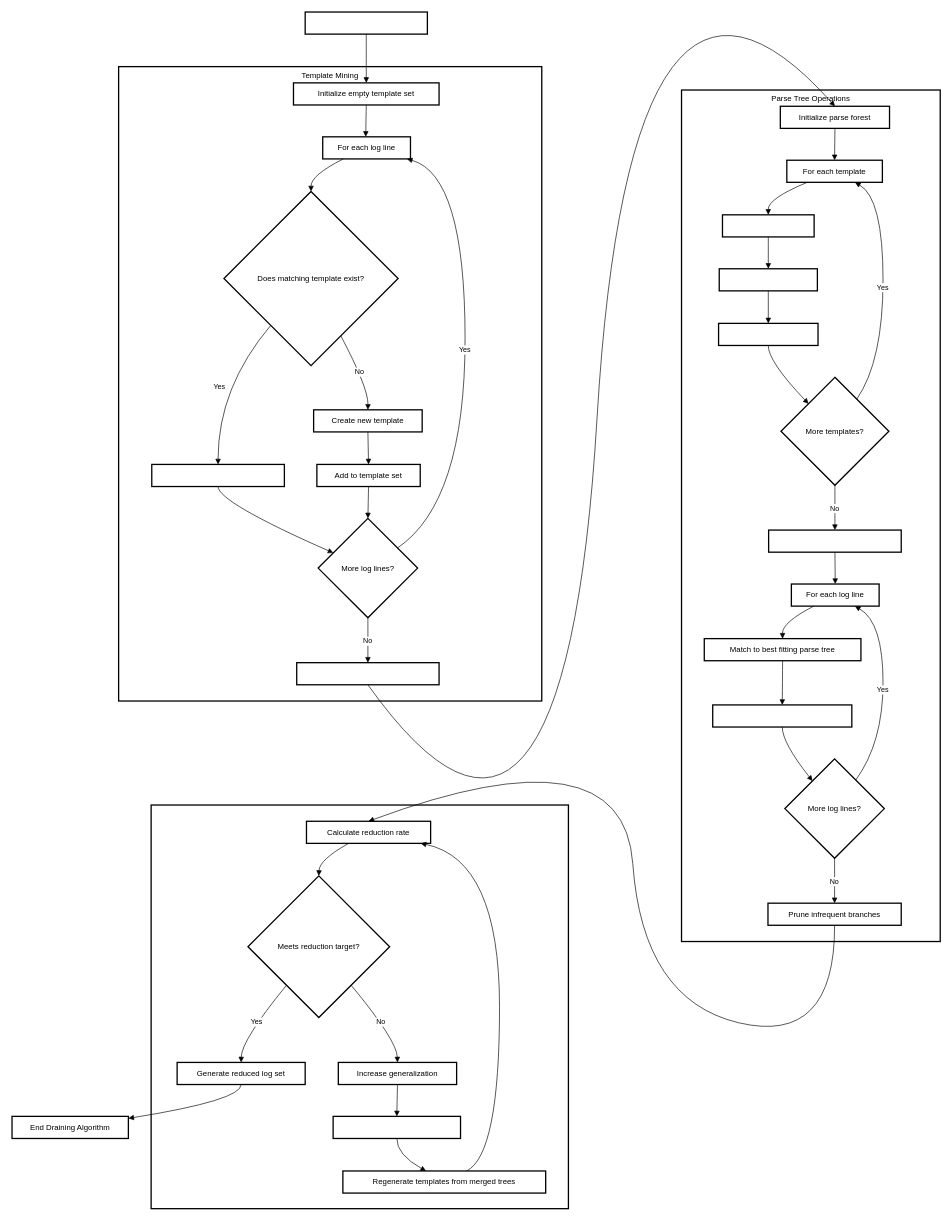
Image size: 952x1220. Some labels were removed from this diagram. Here are the shapes that lost their labels. From the top down, the box of each, then its label:
(304, 11, 428, 34): Start Draining Algorithm
(722, 214, 814, 237): Create parse tree
(718, 268, 818, 291): Add variable nodes
(718, 322, 818, 346): Add to parse forest
(151, 463, 285, 487): Increment template count
(768, 529, 902, 552): Cluster similar parse trees
(296, 662, 439, 685): Sort templates by frequency
(712, 704, 852, 727): Update parse tree statistics
(150, 804, 569, 1209): Adaptive Generalization
(332, 1115, 461, 1139): Merge similar parse trees
